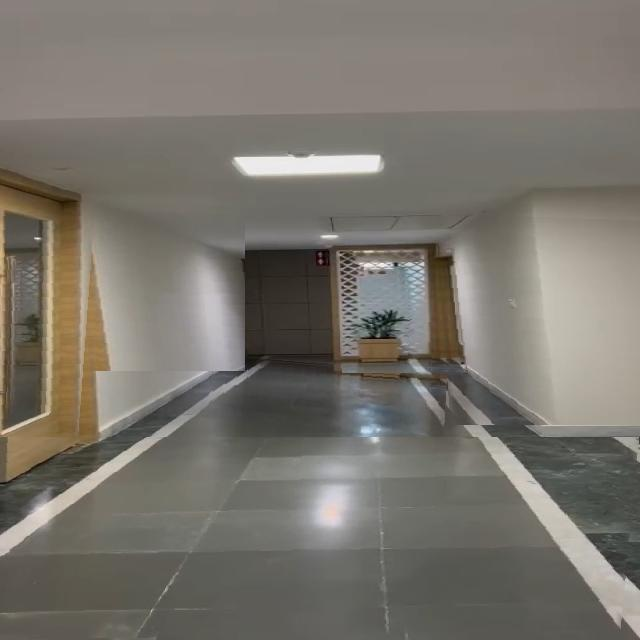door: (0, 156, 99, 458)
floor: (0, 437, 640, 640), (209, 353, 447, 442)
furniture: (342, 313, 434, 373)
wall: (435, 213, 640, 425), (75, 201, 245, 371)
